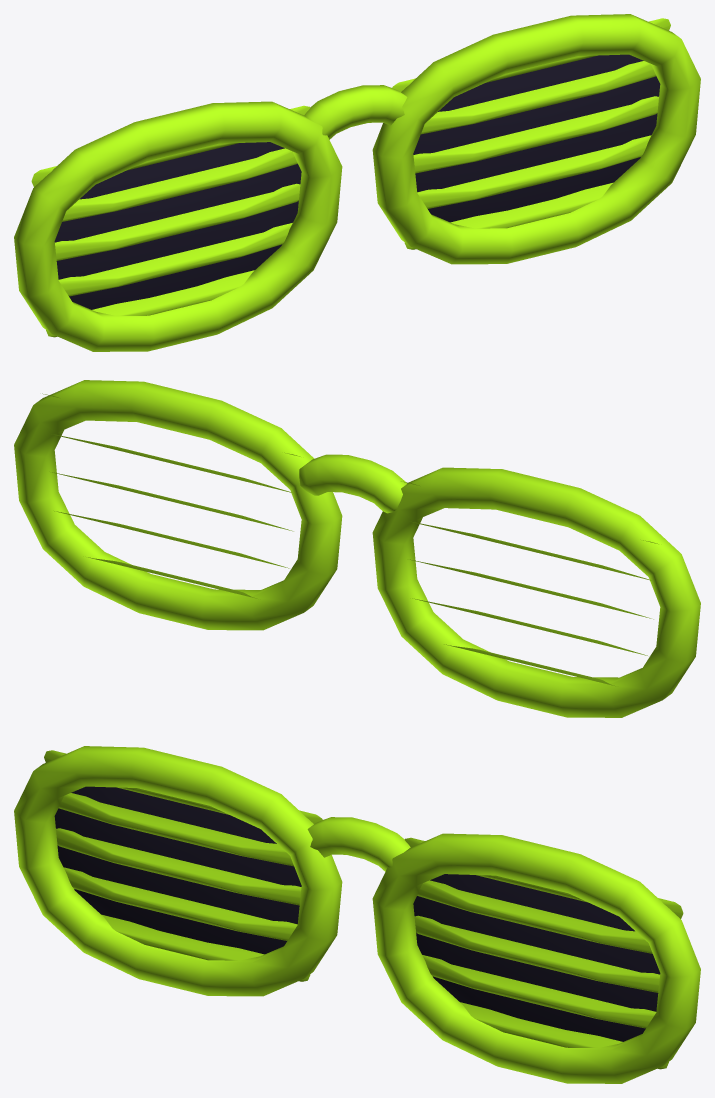
File: shutter_shades.glb
3 renders of one model, top to bottom at view 1: azimuth 30°, elevation 25°; view 2: azimuth 150°, elevation 25°; view 3: azimuth 330°, elevation 25°, orthographic.
Parts seen in each view (by area): view 1: shutter_shades; view 2: shutter_shades; view 3: shutter_shades.
Part boxes in pixels (<box>): shutter_shades: <box>14,14,700,351</box>; shutter_shades: <box>14,380,700,717</box>; shutter_shades: <box>14,746,700,1083</box>.
Bounding box in the file's own units: 0.4836 × 0.1524 × 0.0254.
